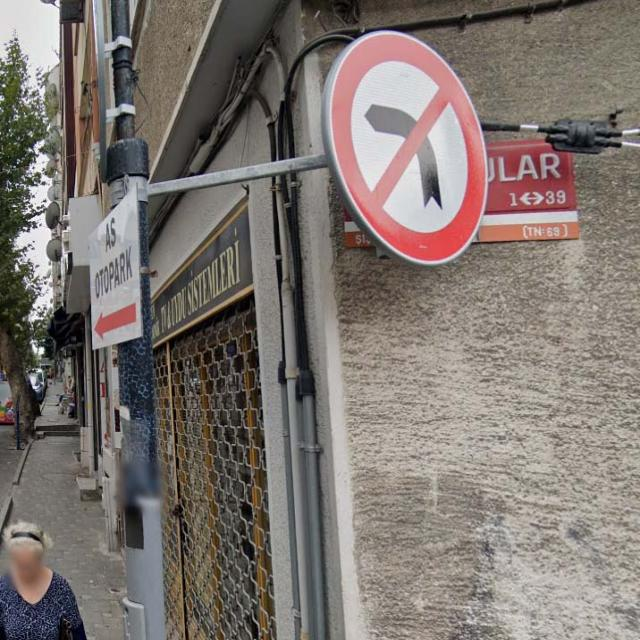soladonulmez: (326, 31, 488, 268)
